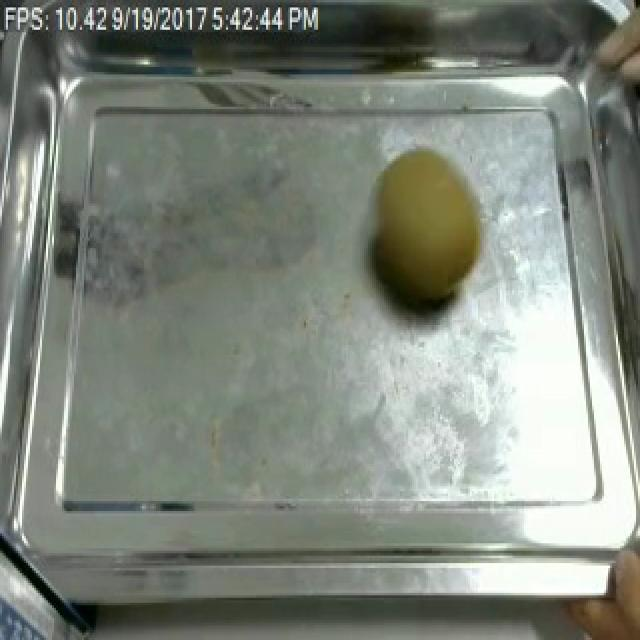Fruit: (360, 139, 492, 320)
